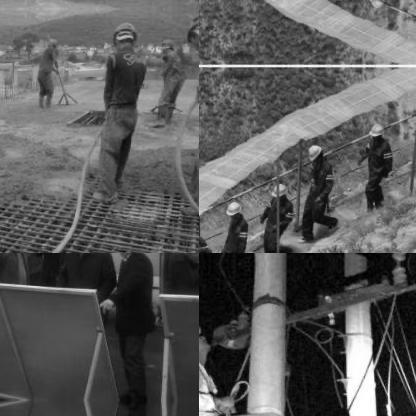Helmet: (111, 21, 135, 50), (199, 321, 210, 363), (188, 11, 198, 47), (268, 180, 288, 196), (158, 36, 172, 58), (306, 142, 322, 160), (368, 122, 384, 138), (225, 199, 239, 217), (367, 0, 385, 8)
